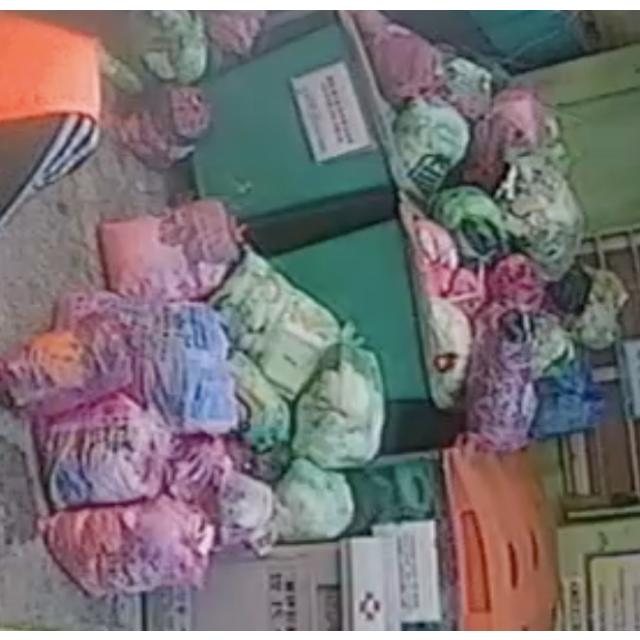general_trashbag: (211, 248, 340, 398), (292, 343, 384, 467), (495, 154, 584, 280), (396, 99, 470, 192), (275, 458, 354, 541), (418, 294, 471, 408), (230, 350, 289, 451), (432, 184, 509, 261)
other_trashbag: (44, 494, 215, 596), (35, 391, 171, 508), (120, 298, 238, 432), (466, 253, 544, 450), (101, 200, 239, 300), (0, 314, 132, 413), (352, 9, 444, 104)
